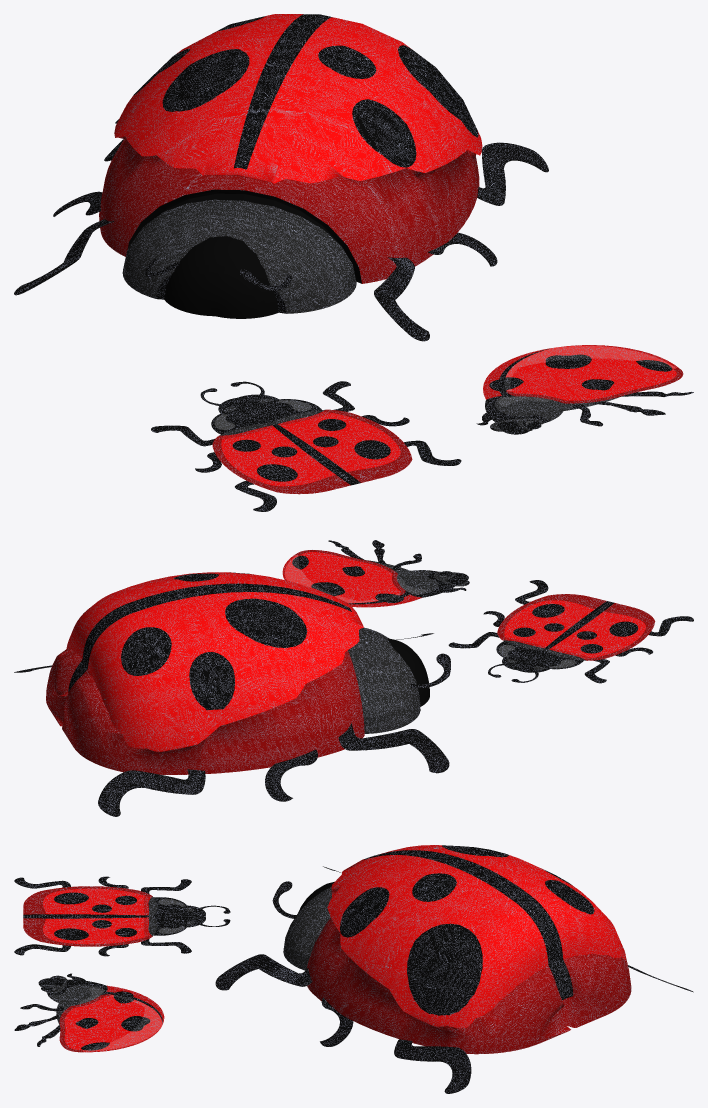
The model's file is Ladybug.dae.
3 views of the same model, one above another, from view 1: azimuth 30°, elevation 25°; view 2: azimuth 150°, elevation 25°; view 3: azimuth 270°, elevation 25° (orthographic). The views are drawn at different scales.
Parts seen in each view (by area): view 1: group_2 (×10), group_1 (×6), group_0 (×4), group_3 (×3); view 2: group_2 (×8), group_1 (×6), group_3 (×3), group_0 (×5); view 3: group_2 (×9), group_1 (×6), group_0 (×5), group_3 (×3).
Boxes of the visible parts, left/top/right/bottom form: group_2 (×10): left=99, top=14, right=482, bottom=318; group_1 (×6): left=200, top=381, right=412, bottom=494; group_0 (×4): left=476, top=345, right=676, bottom=425; group_3 (×3): left=14, top=142, right=548, bottom=341; group_2 (×8): left=46, top=572, right=429, bottom=774; group_1 (×6): left=488, top=594, right=655, bottom=682; group_3 (×3): left=98, top=723, right=449, bottom=816; group_0 (×5): left=285, top=549, right=466, bottom=604; group_2 (×9): left=283, top=845, right=631, bottom=1054; group_1 (×6): left=23, top=886, right=230, bottom=946; group_0 (×5): left=47, top=973, right=162, bottom=1052; group_3 (×3): left=215, top=954, right=471, bottom=1093.
Size of the model in its own units: 362 by 480 by 107.
